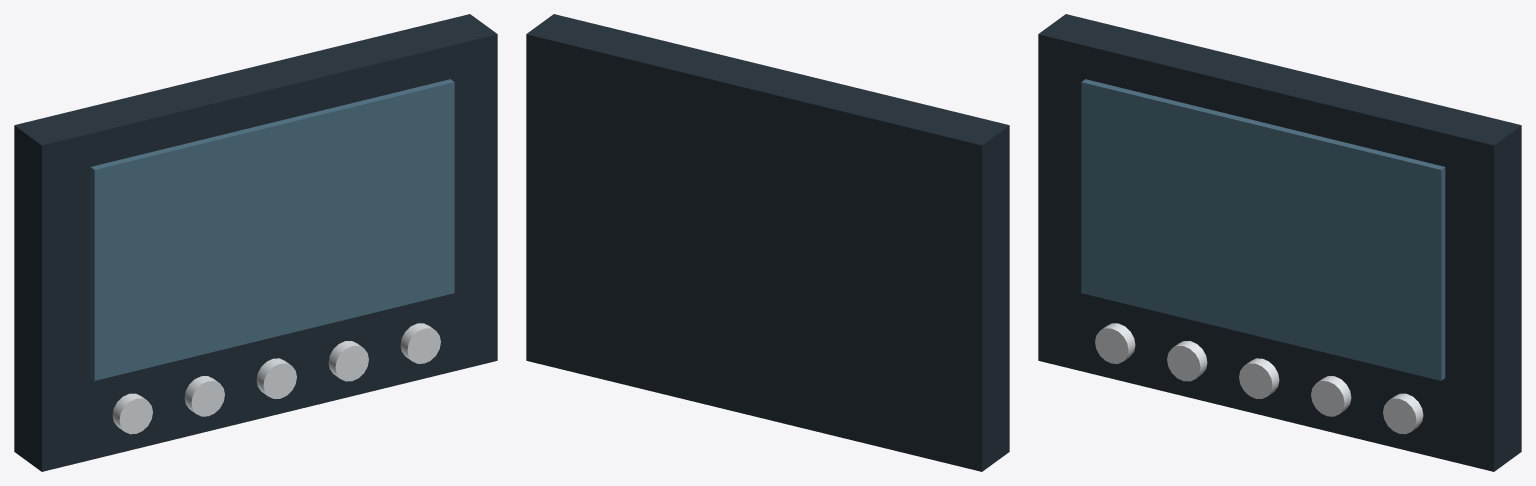
The picture shows the model from 3 angles, left to right: view 1: azimuth 30°, elevation 25°; view 2: azimuth 150°, elevation 25°; view 3: azimuth 330°, elevation 25°; orthographic projection.
Visible parts, largest first — view 1: 防爆接线箱; view 2: 防爆接线箱; view 3: 防爆接线箱.
Boxes of the visible parts, left/top/right/bottom form: 防爆接线箱: left=14, top=14, right=497, bottom=471; 防爆接线箱: left=526, top=14, right=1009, bottom=471; 防爆接线箱: left=1038, top=14, right=1521, bottom=471.
Bounding box in the file's own units: 0.95 × 0.65 × 0.1375.
